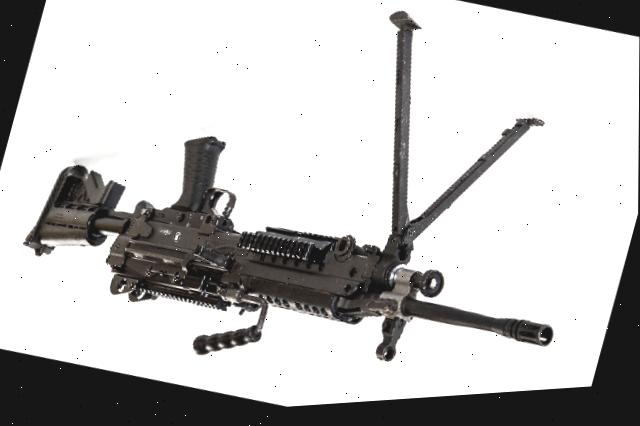rifle: (3, 0, 640, 426)
